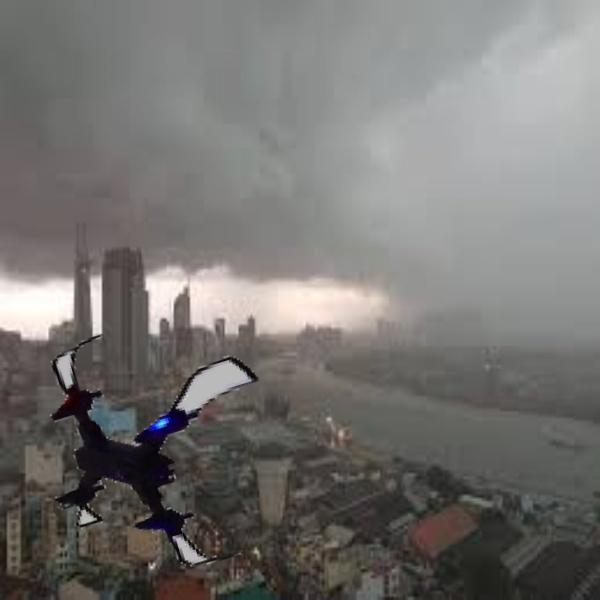drone: (35, 315, 304, 584)
